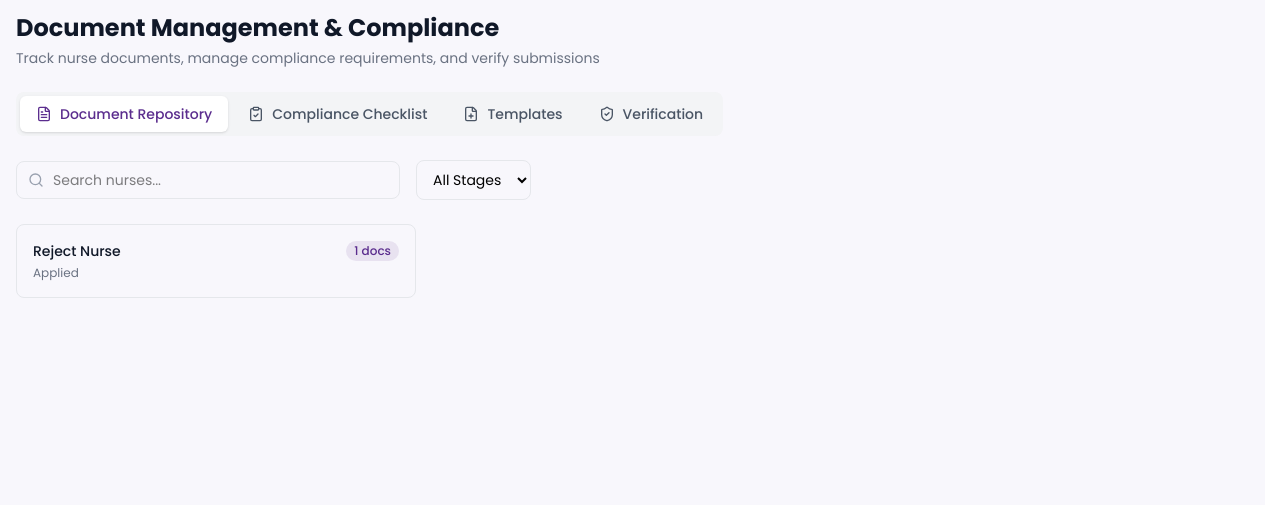
Scenario: Workflow integration tests › Document verification workflow › rejecting a document marks it as Rejected
# Navigate to Verification tab
Click the button "Verification" at (651, 114), box [582,96,719,132]
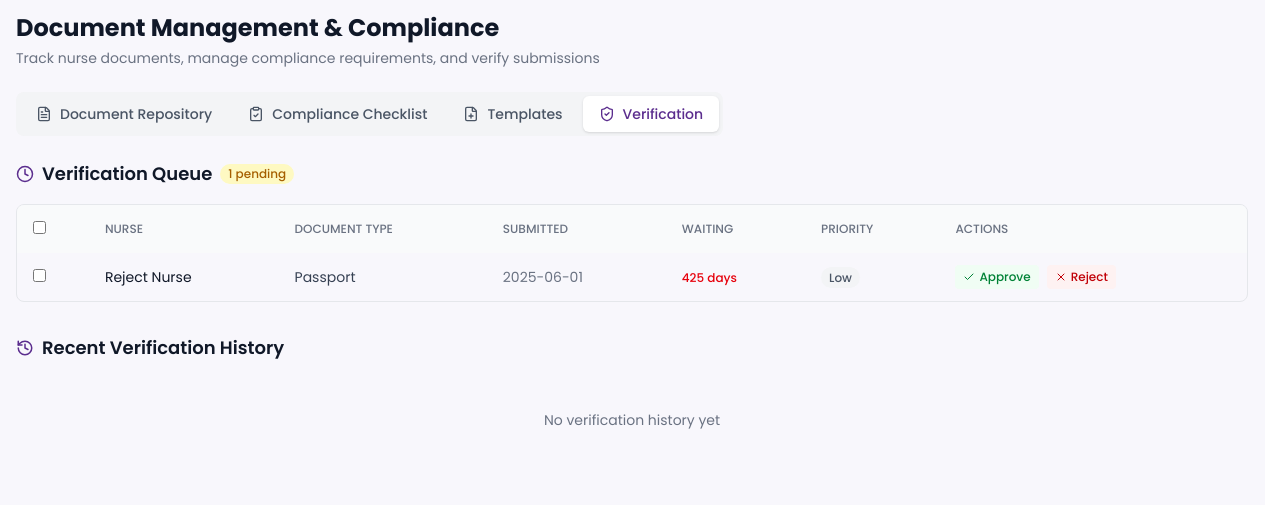
expect the text "Reject Nurse" is shown: met, box [89,253,279,301]
# Click reject button (first click opens notes)
Click the button "Reject" at (1081, 277), box [1047,265,1116,289]
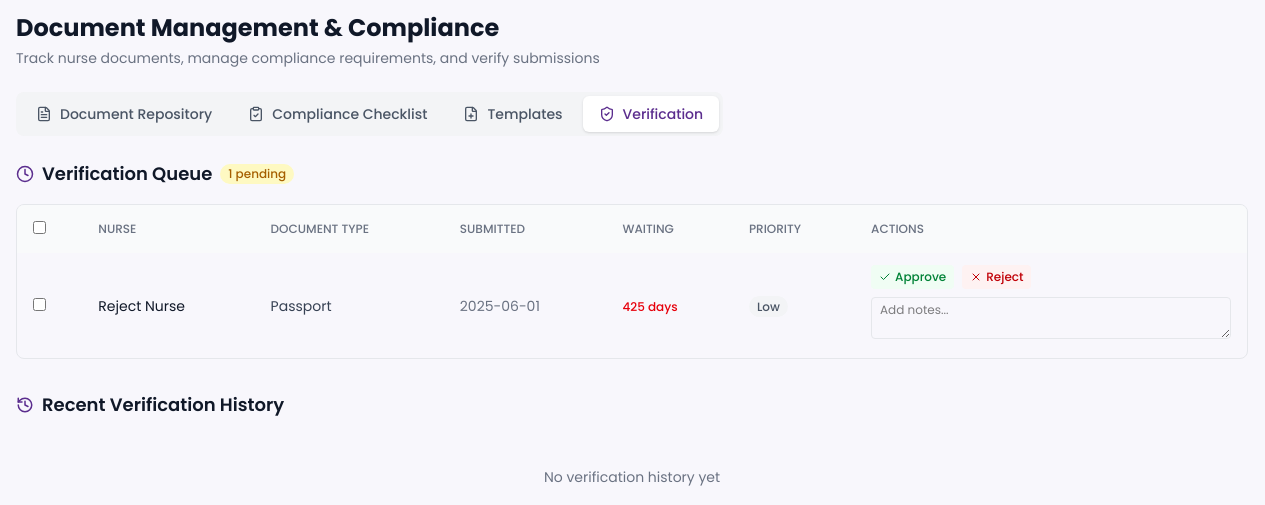
# Click reject again to confirm
Click the button "Reject" at (997, 277), box [962,265,1032,289]
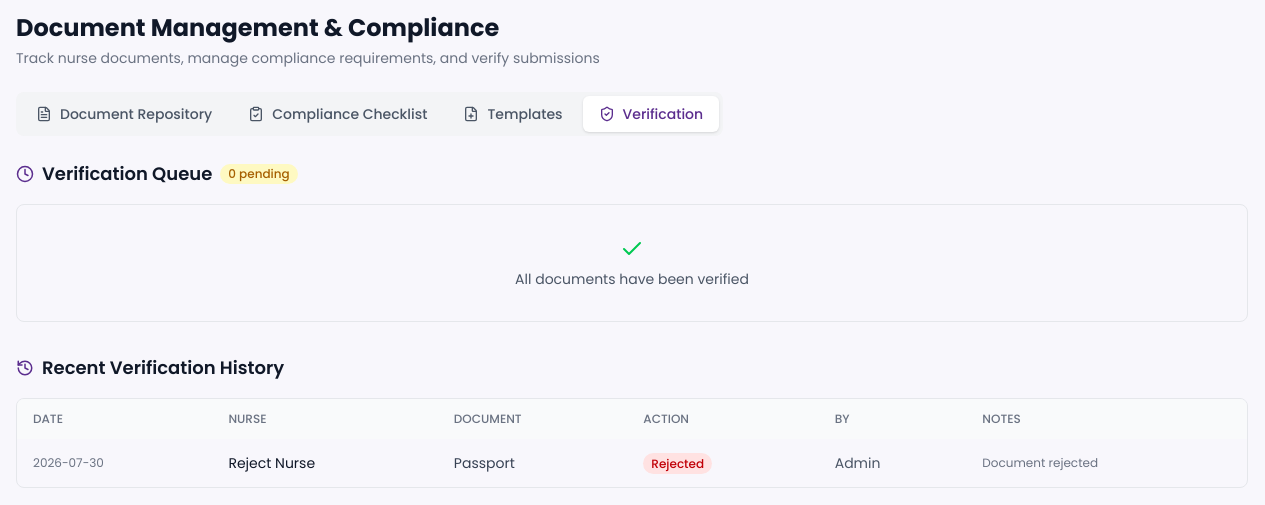
expect the text "All documents have been verified" is shown: met, box [515,269,749,289]
expect the text "Rejected" is shown: met, box [643,453,712,474]
